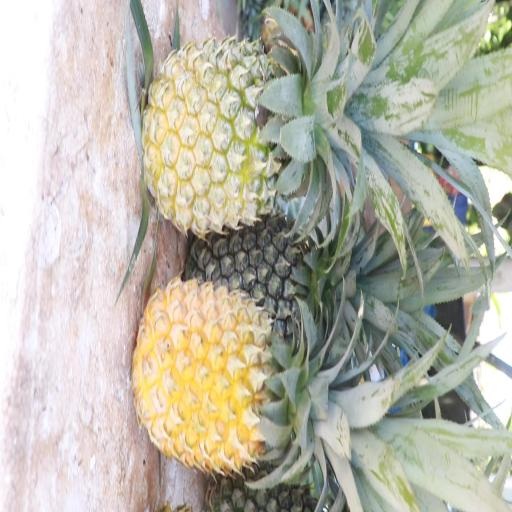------------------------------: (149, 35, 333, 229)
Pineapple - v8 v1: (136, 285, 326, 473)
